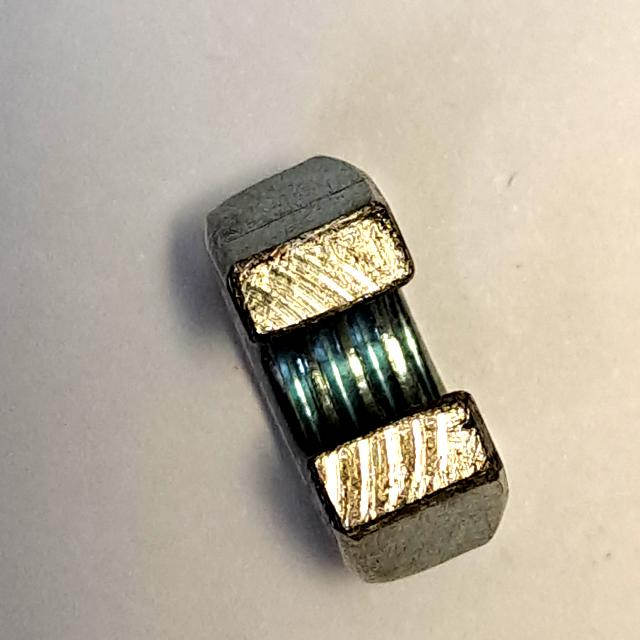Side-Fracture: (192, 141, 536, 595)
